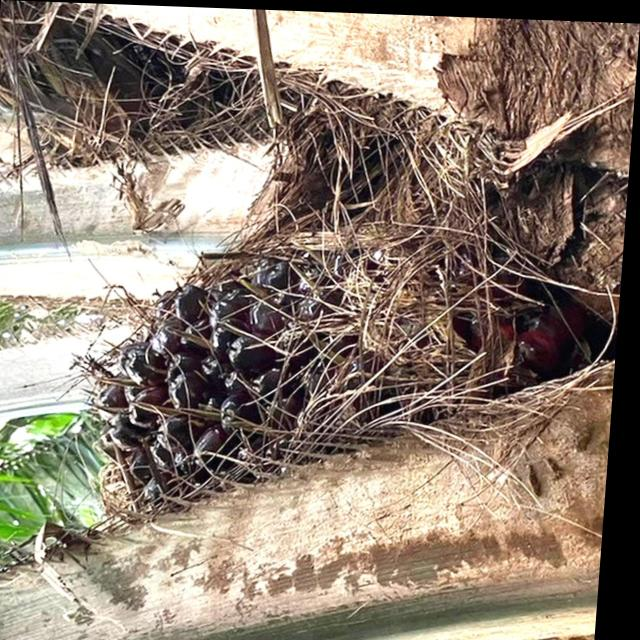ripe: (97, 195, 441, 512)
